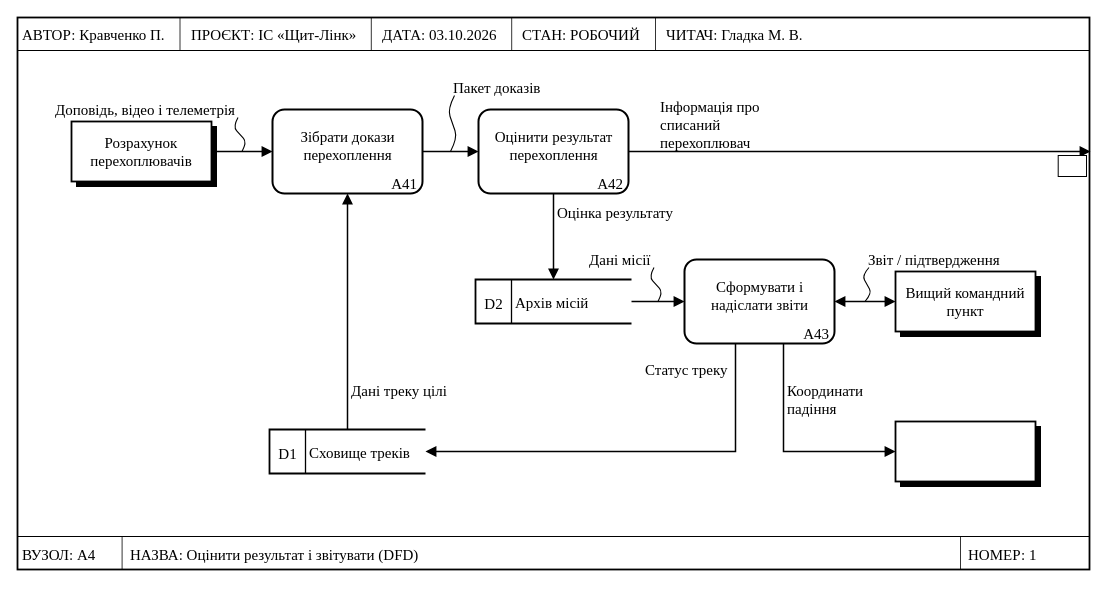
Some shapes in this 1118 by 589 pixel diagram are drawn without their labels. Here are the shapes that lost their labels. From the top down, the box of each, then its label:
(1057, 154, 1086, 176): A5
(894, 420, 1036, 482): ДСНС
